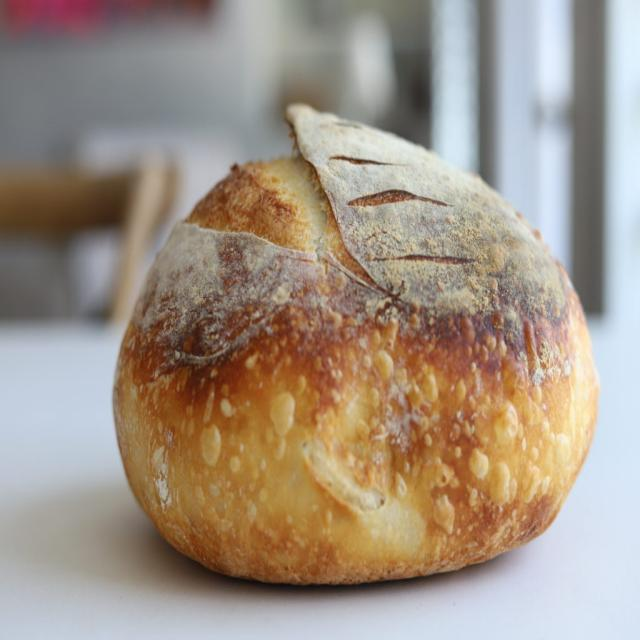Maltese-Bread: (114, 105, 598, 582)
